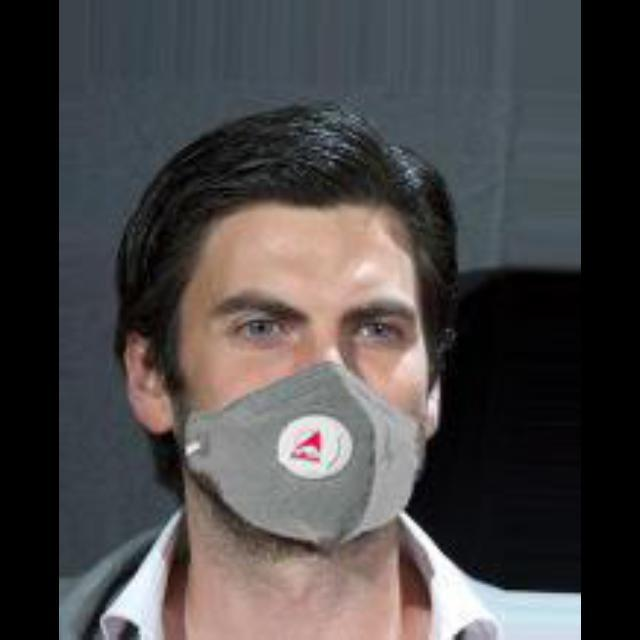suspicion: (137, 100, 486, 548)
